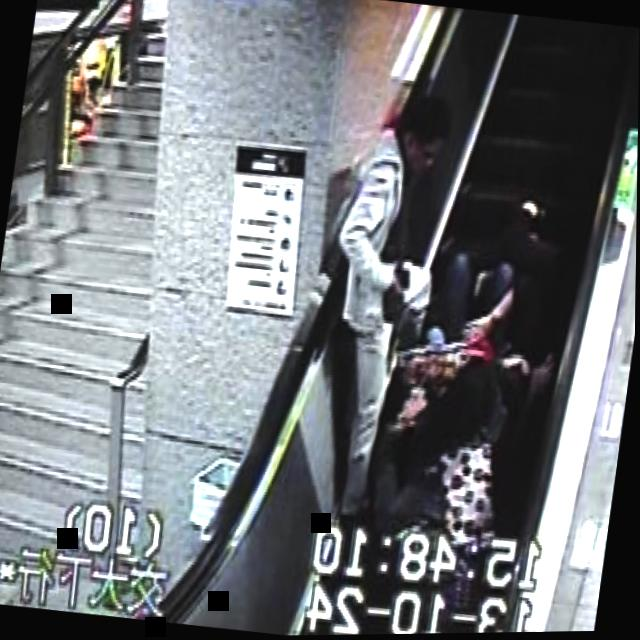Fall-Detected: (363, 224, 583, 568)
